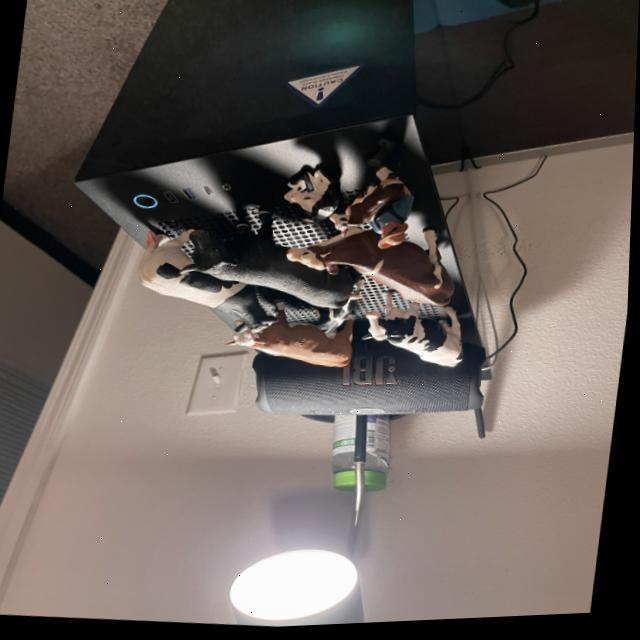cow: (182, 193, 370, 321), (127, 214, 297, 352), (286, 193, 472, 316), (228, 295, 363, 375), (362, 291, 476, 374), (324, 165, 412, 242), (280, 162, 350, 229), (312, 293, 364, 339)
person: (363, 192, 433, 258)
